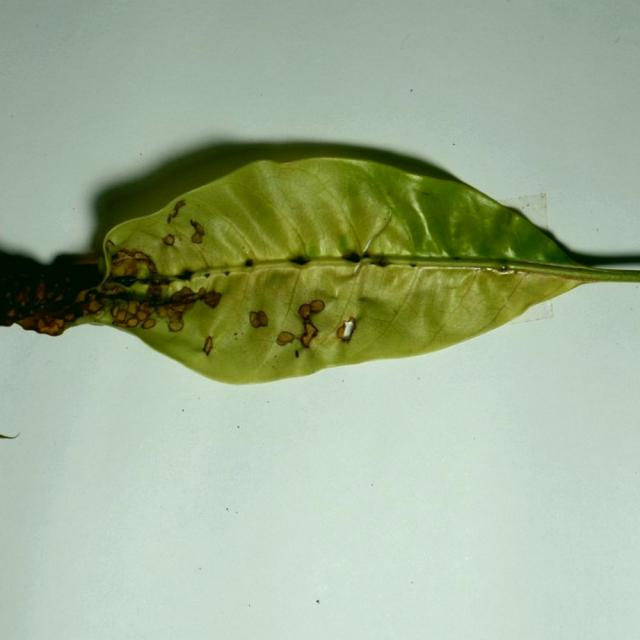Anthracnose: (293, 295, 342, 353), (109, 299, 159, 330), (108, 248, 157, 278), (166, 285, 220, 311), (35, 316, 65, 335), (166, 199, 186, 223), (189, 219, 205, 243), (97, 283, 126, 296), (16, 316, 41, 331), (76, 300, 99, 315), (249, 310, 268, 328), (172, 286, 194, 301), (276, 331, 295, 346), (111, 250, 129, 264), (297, 303, 312, 319), (35, 280, 46, 301), (133, 251, 152, 263), (308, 299, 325, 312), (202, 336, 213, 355), (148, 284, 162, 298), (15, 291, 28, 306), (168, 320, 184, 332), (127, 300, 139, 315), (162, 234, 175, 246), (110, 306, 121, 319), (198, 287, 207, 297), (301, 338, 309, 349), (106, 240, 115, 249), (295, 349, 299, 358)
Mango: (0, 143, 639, 387)
